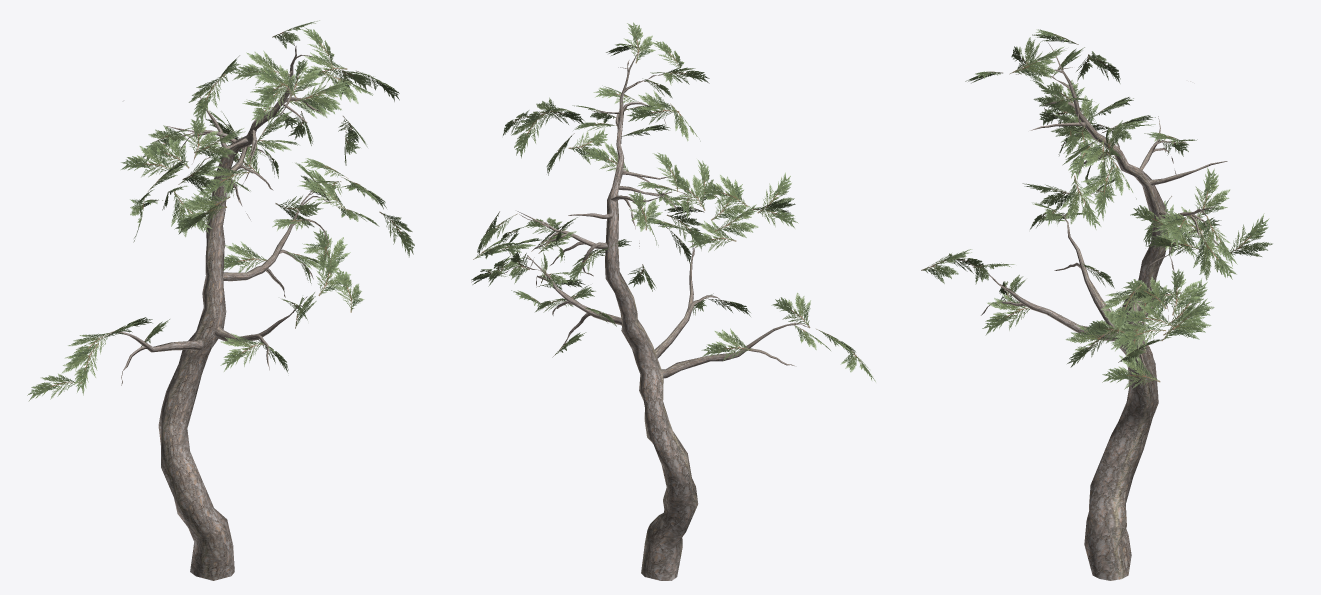
File: juniper.glb
3 renders of one model, left to right at view 1: azimuth 30°, elevation 25°; view 2: azimuth 150°, elevation 25°; view 3: azimuth 270°, elevation 25°, orthographic. The views are drawn at different scales.
Parts seen in each view (by area): view 1: juniper; view 2: juniper; view 3: juniper.
Part boxes in pixels (left/top/right/bottom): juniper: left=27, top=20, right=414, bottom=580; juniper: left=471, top=22, right=875, bottom=580; juniper: left=921, top=29, right=1272, bottom=580.
Bounding box in the file's own units: 5.85 × 7.5 × 4.6.
Materials: 2 (2 with a texture image).
